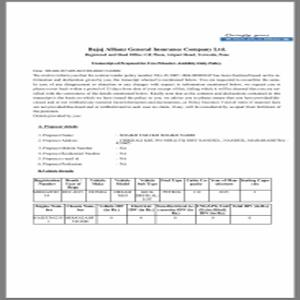table: (34, 177, 272, 202), (32, 204, 272, 226)
text: (35, 123, 286, 175), (31, 68, 282, 119), (83, 45, 231, 58), (88, 60, 224, 66)
